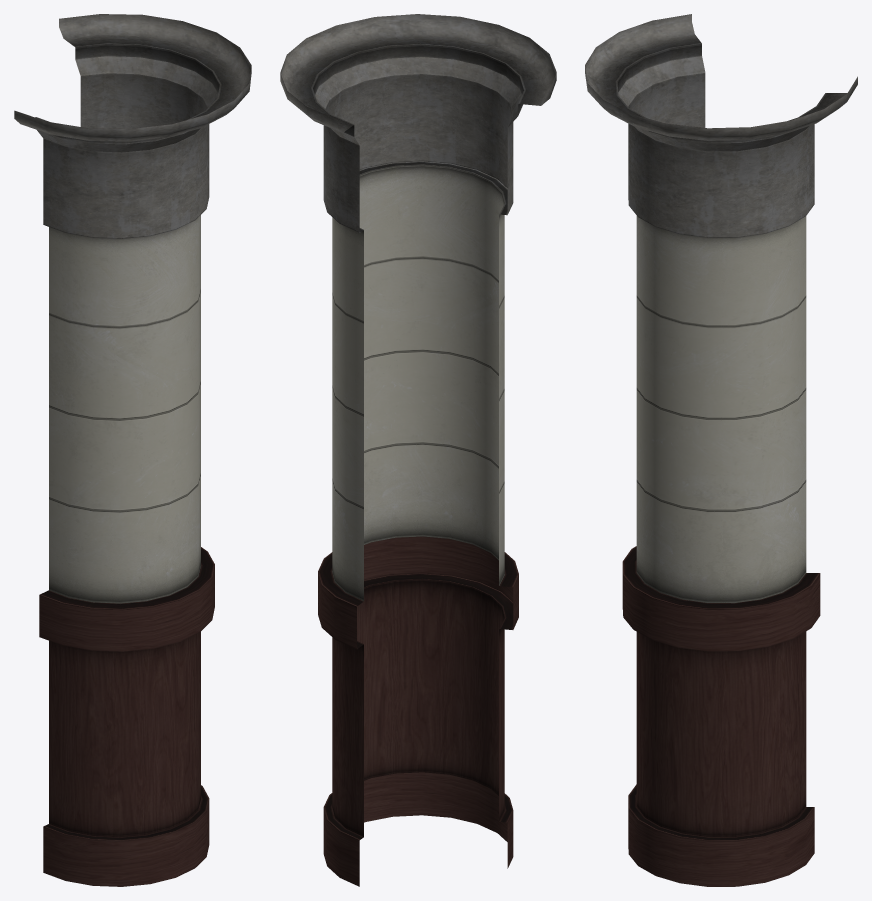
File: Wall 6 Corner Pillar 3.fbx
3 renders of one model, left to right at view 1: azimuth 30°, elevation 25°; view 2: azimuth 150°, elevation 25°; view 3: azimuth 270°, elevation 25°, orthographic.
Visible parts, largest first — view 1: Wall_6_Corner_Pillar_3; view 2: Wall_6_Corner_Pillar_3; view 3: Wall_6_Corner_Pillar_3.
Boxes of the visible parts, x1,y1,x2,y2 form: Wall_6_Corner_Pillar_3: (14, 14, 251, 886); Wall_6_Corner_Pillar_3: (280, 14, 556, 886); Wall_6_Corner_Pillar_3: (585, 14, 857, 886).
Bounding box in the file's own units: 94.62 × 300 × 95.51.
